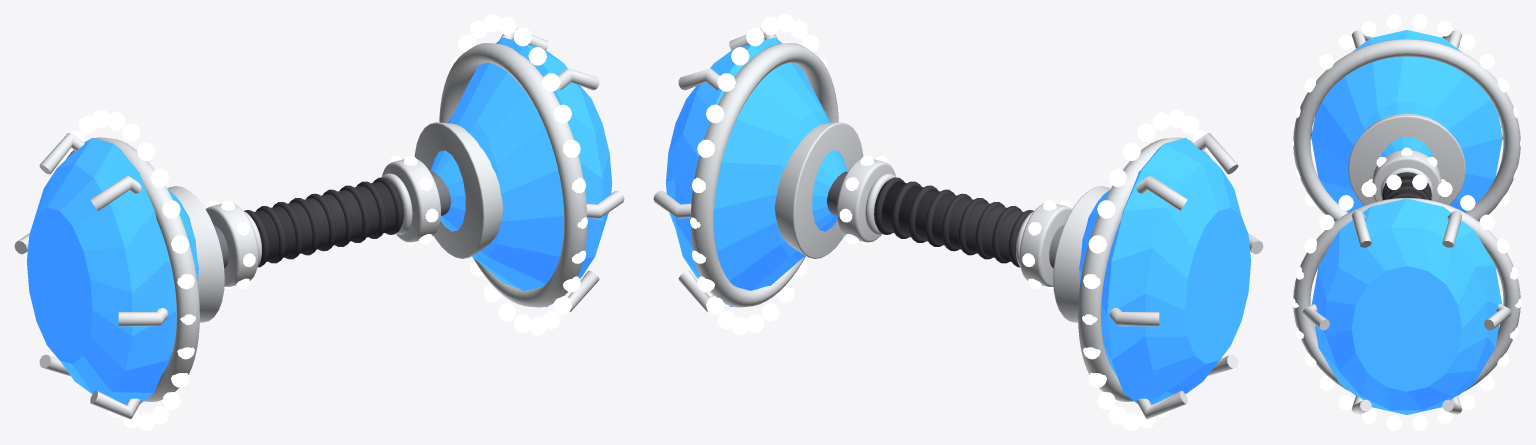
File: dm_sapphire1t.glb
3 renders of one model, left to right at view 1: azimuth 30°, elevation 25°; view 2: azimuth 150°, elevation 25°; view 3: azimuth 270°, elevation 25°, orthographic. The views are drawn at different scales.
Visible parts, largest first — view 1: Sapphire1t_Gem, Sapphire1t_Gem.001, Sapphire1t_HaloRing.001, Sapphire1t_Cup.001, Sapphire1t_HaloRing, Sapphire1t_Grip, Sapphire1t_Cup, Sapphire1t_InnerCollar.001, Sapphire1t_InnerCollar, Sapphire1t_Prong.002, Sapphire1t_Prong.003, Sapphire1t_Prong.004 (+5 smaller); view 2: Sapphire1t_Gem, Sapphire1t_Gem.001, Sapphire1t_HaloRing.001, Sapphire1t_Cup.001, Sapphire1t_HaloRing, Sapphire1t_Grip, Sapphire1t_Cup, Sapphire1t_InnerCollar.001, Sapphire1t_InnerCollar, Sapphire1t_Prong.001, Sapphire1t_Prong, Sapphire1t_Prong.005 (+5 smaller); view 3: Sapphire1t_Gem.001, Sapphire1t_Gem, Sapphire1t_HaloRing, Sapphire1t_HaloRing.001, Sapphire1t_Cup, Sapphire1t_InnerCollar, Sapphire1t_Prong.007, Sapphire1t_Prong.008, Sapphire1t_Prong.006, Sapphire1t_Prong.009, Sapphire1t_GripEnd, Sapphire1t_Prong.010 (+2 smaller).
Part boxes in pixels (left/top/right/bottom): Sapphire1t_Gem: left=26, top=137, right=198, bottom=404; Sapphire1t_Gem.001: left=430, top=37, right=612, bottom=307; Sapphire1t_HaloRing.001: left=439, top=43, right=587, bottom=307; Sapphire1t_Cup.001: left=414, top=122, right=503, bottom=258; Sapphire1t_HaloRing: left=66, top=137, right=199, bottom=401; Sapphire1t_Grip: left=254, top=181, right=403, bottom=261; Sapphire1t_Cup: left=167, top=186, right=224, bottom=322; Sapphire1t_InnerCollar.001: left=382, top=159, right=440, bottom=242; Sapphire1t_InnerCollar: left=205, top=203, right=258, bottom=286; Sapphire1t_Prong.002: left=90, top=175, right=141, bottom=210; Sapphire1t_Prong.003: left=118, top=308, right=168, bottom=326; Sapphire1t_Prong.004: left=90, top=391, right=141, bottom=419; Sapphire1t_Gem: left=1079, top=137, right=1251, bottom=404; Sapphire1t_Gem.001: left=665, top=37, right=847, bottom=307; Sapphire1t_HaloRing.001: left=690, top=43, right=838, bottom=307; Sapphire1t_Cup.001: left=774, top=122, right=863, bottom=258; Sapphire1t_HaloRing: left=1078, top=137, right=1211, bottom=401; Sapphire1t_Grip: left=874, top=181, right=1023, bottom=261; Sapphire1t_Cup: left=1053, top=186, right=1110, bottom=322; Sapphire1t_InnerCollar.001: left=837, top=159, right=895, bottom=242; Sapphire1t_InnerCollar: left=1019, top=203, right=1072, bottom=286; Sapphire1t_Prong.001: left=1136, top=175, right=1187, bottom=210; Sapphire1t_Prong: left=1109, top=308, right=1159, bottom=326; Sapphire1t_Prong.005: left=1136, top=391, right=1187, bottom=419; Sapphire1t_Gem.001: left=1311, top=198, right=1502, bottom=414; Sapphire1t_Gem: left=1311, top=30, right=1502, bottom=212; Sapphire1t_HaloRing: left=1293, top=39, right=1520, bottom=221; Sapphire1t_HaloRing.001: left=1293, top=198, right=1520, bottom=391; Sapphire1t_Cup: left=1348, top=113, right=1465, bottom=205; Sapphire1t_InnerCollar: left=1372, top=150, right=1441, bottom=201; Sapphire1t_Prong.007: left=1442, top=210, right=1462, bottom=247; Sapphire1t_Prong.008: left=1351, top=210, right=1371, bottom=247; Sapphire1t_Prong.006: left=1484, top=303, right=1511, bottom=330; Sapphire1t_Prong.009: left=1302, top=303, right=1329, bottom=330; Sapphire1t_GripEnd: left=1380, top=167, right=1433, bottom=199; Sapphire1t_Prong.010: left=1352, top=395, right=1371, bottom=414.
Bounding box in the file's own units: 4.06 × 2.27 × 1.85.
